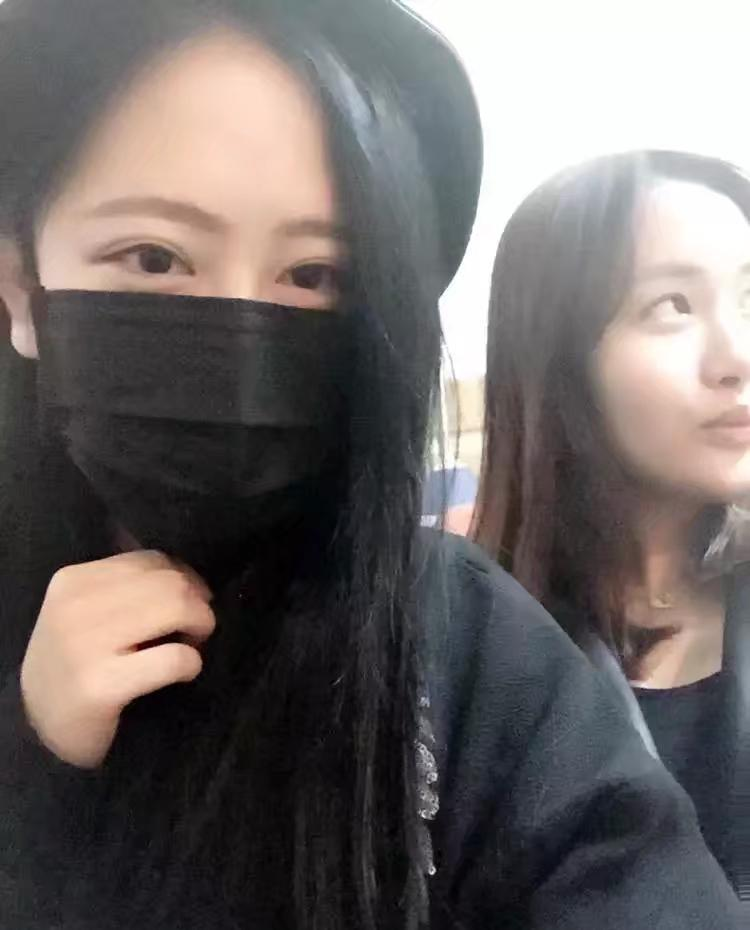NONE: (596, 239, 750, 499)
OK: (16, 161, 406, 551)
